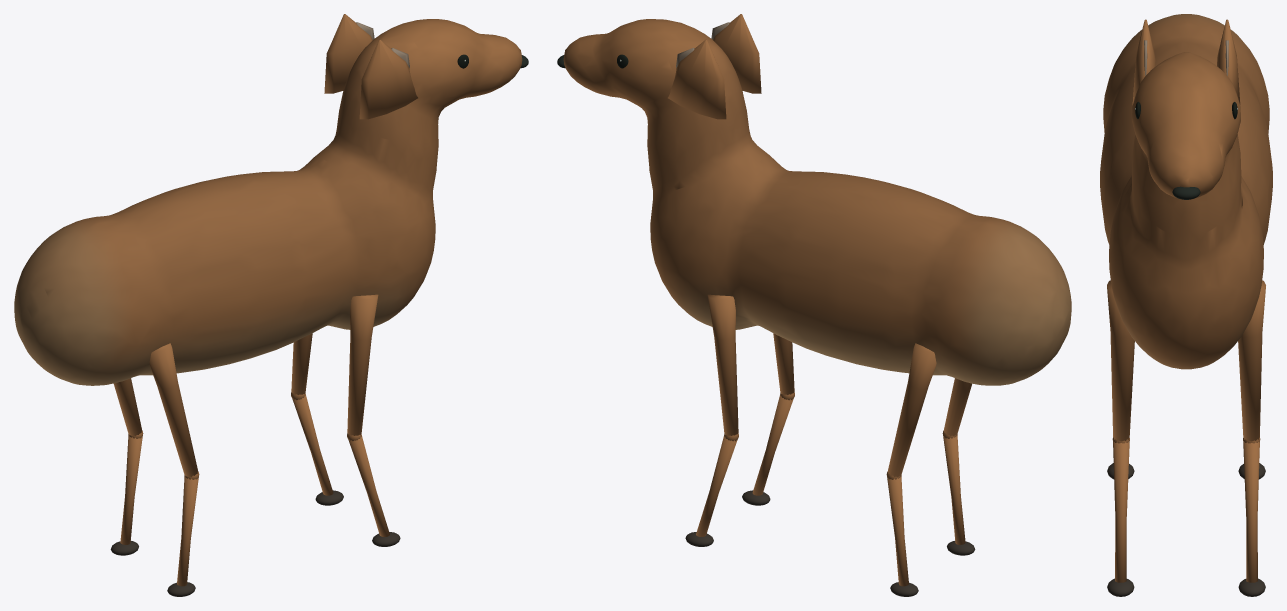
Rendered from wildlife-capreolus_capreolus.glb.
The picture shows the model from 3 angles, left to right: view 1: azimuth 30°, elevation 25°; view 2: azimuth 150°, elevation 25°; view 3: azimuth 270°, elevation 25°; orthographic projection. The views are drawn at different scales.
Parts seen in each view (by area): view 1: capreolus_capreolus; view 2: capreolus_capreolus; view 3: capreolus_capreolus.
Boxes of the visible parts, <box> form: capreolus_capreolus: <box>14,14,528,596</box>; capreolus_capreolus: <box>557,14,1071,596</box>; capreolus_capreolus: <box>1100,14,1272,596</box>.
Bounding box in the file's own units: 1.1 × 1.03 × 0.2806.
